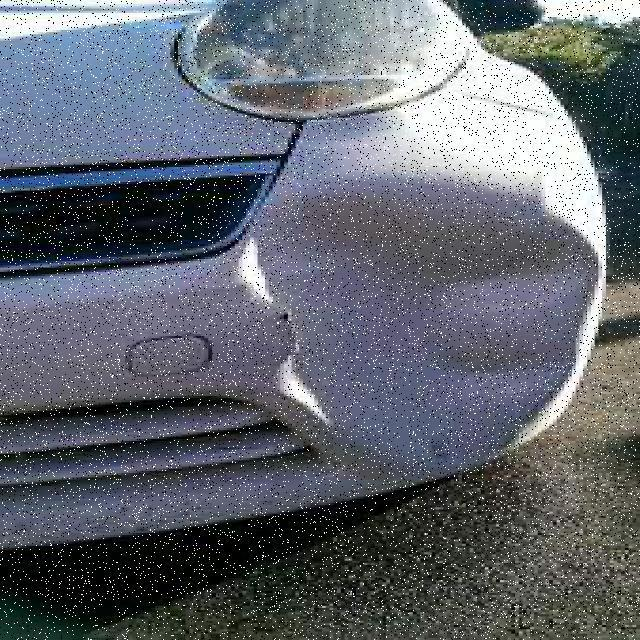front-bumper-dent: (0, 111, 618, 538)
